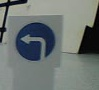left: (16, 22, 56, 61)
